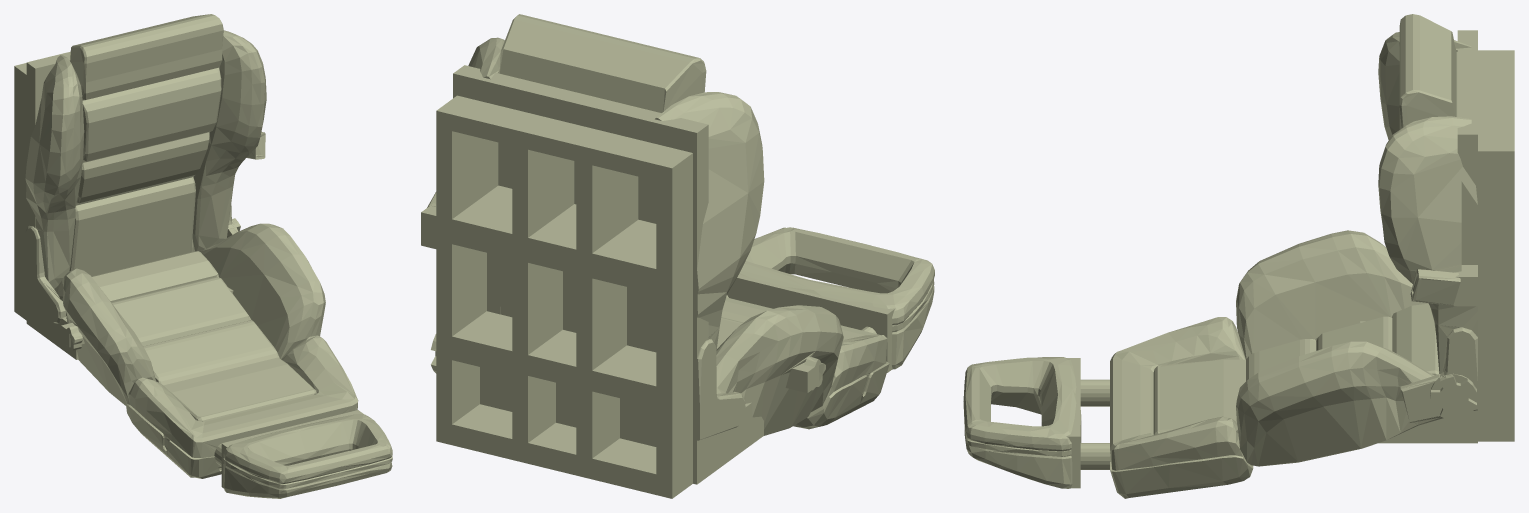
Rendered from tinker.obj.
3 views of the same model, side by side, from view 1: azimuth 30°, elevation 25°; view 2: azimuth 150°, elevation 25°; view 3: azimuth 270°, elevation 25° (orthographic). The views are drawn at different scales.
Visible parts, largest first — view 1: obj_0; view 2: obj_0; view 3: obj_0.
Boxes of the visible parts, x1,y1,x2,y2 form: obj_0: (14,14,392,498); obj_0: (421,14,934,498); obj_0: (963,14,1514,498).
Bounding box in the file's own units: 8 × 10.96 × 13.59.
